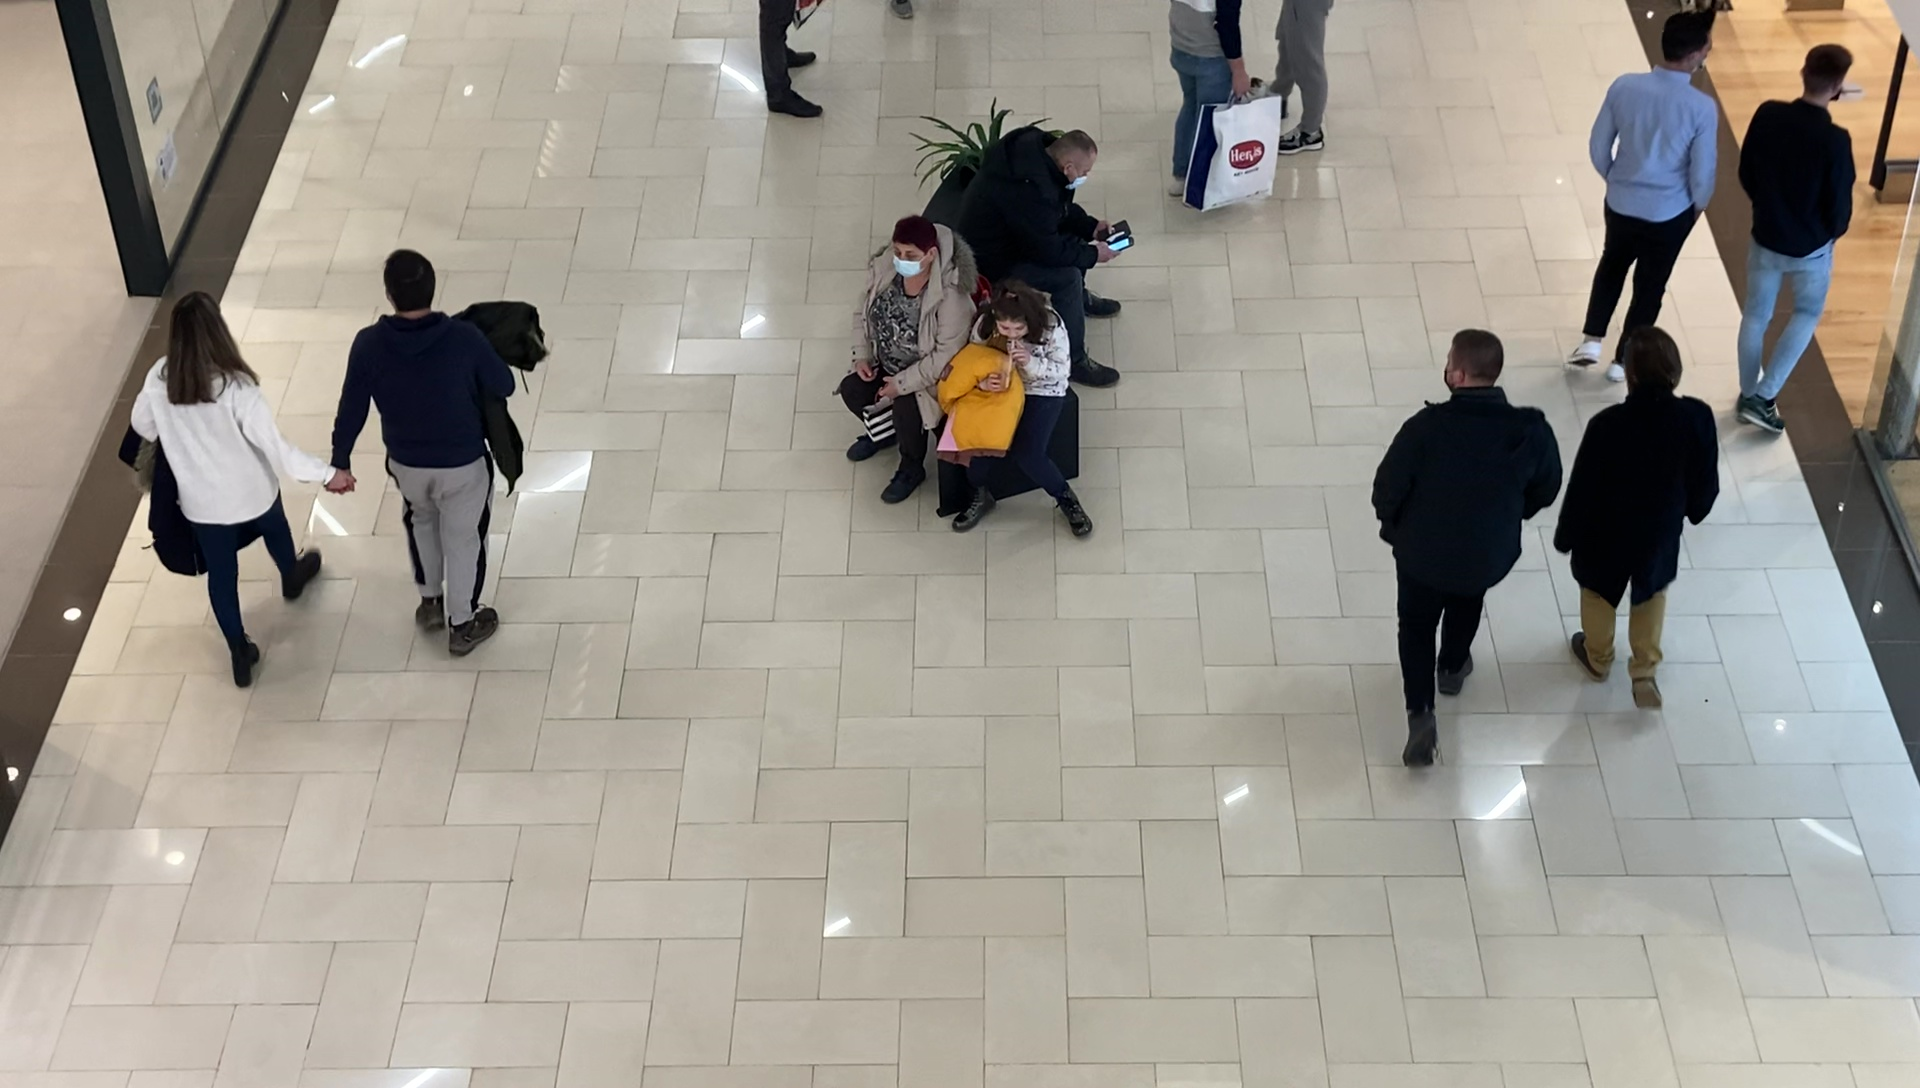person: (1373, 329, 1563, 764), (131, 292, 326, 688), (332, 251, 515, 657), (1566, 327, 1723, 709), (1589, 13, 1721, 377), (1737, 43, 1856, 431)
